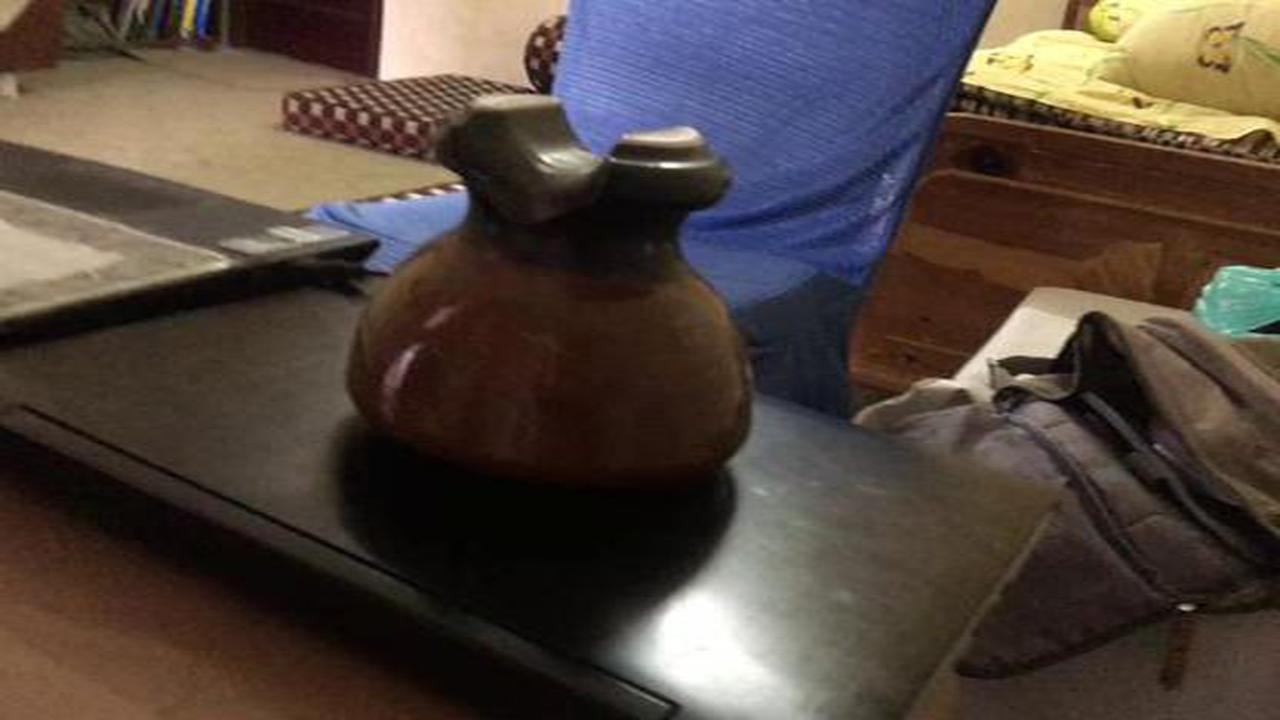insulator_pin: (323, 75, 773, 513)
